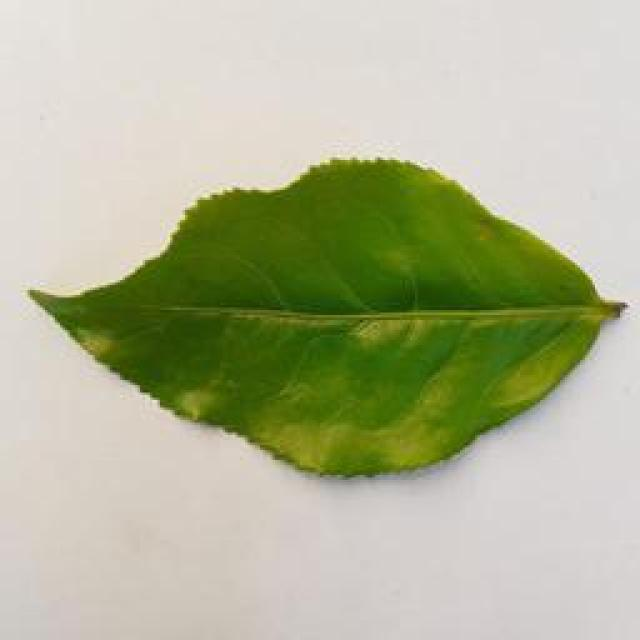Healthy: (21, 157, 624, 480)
